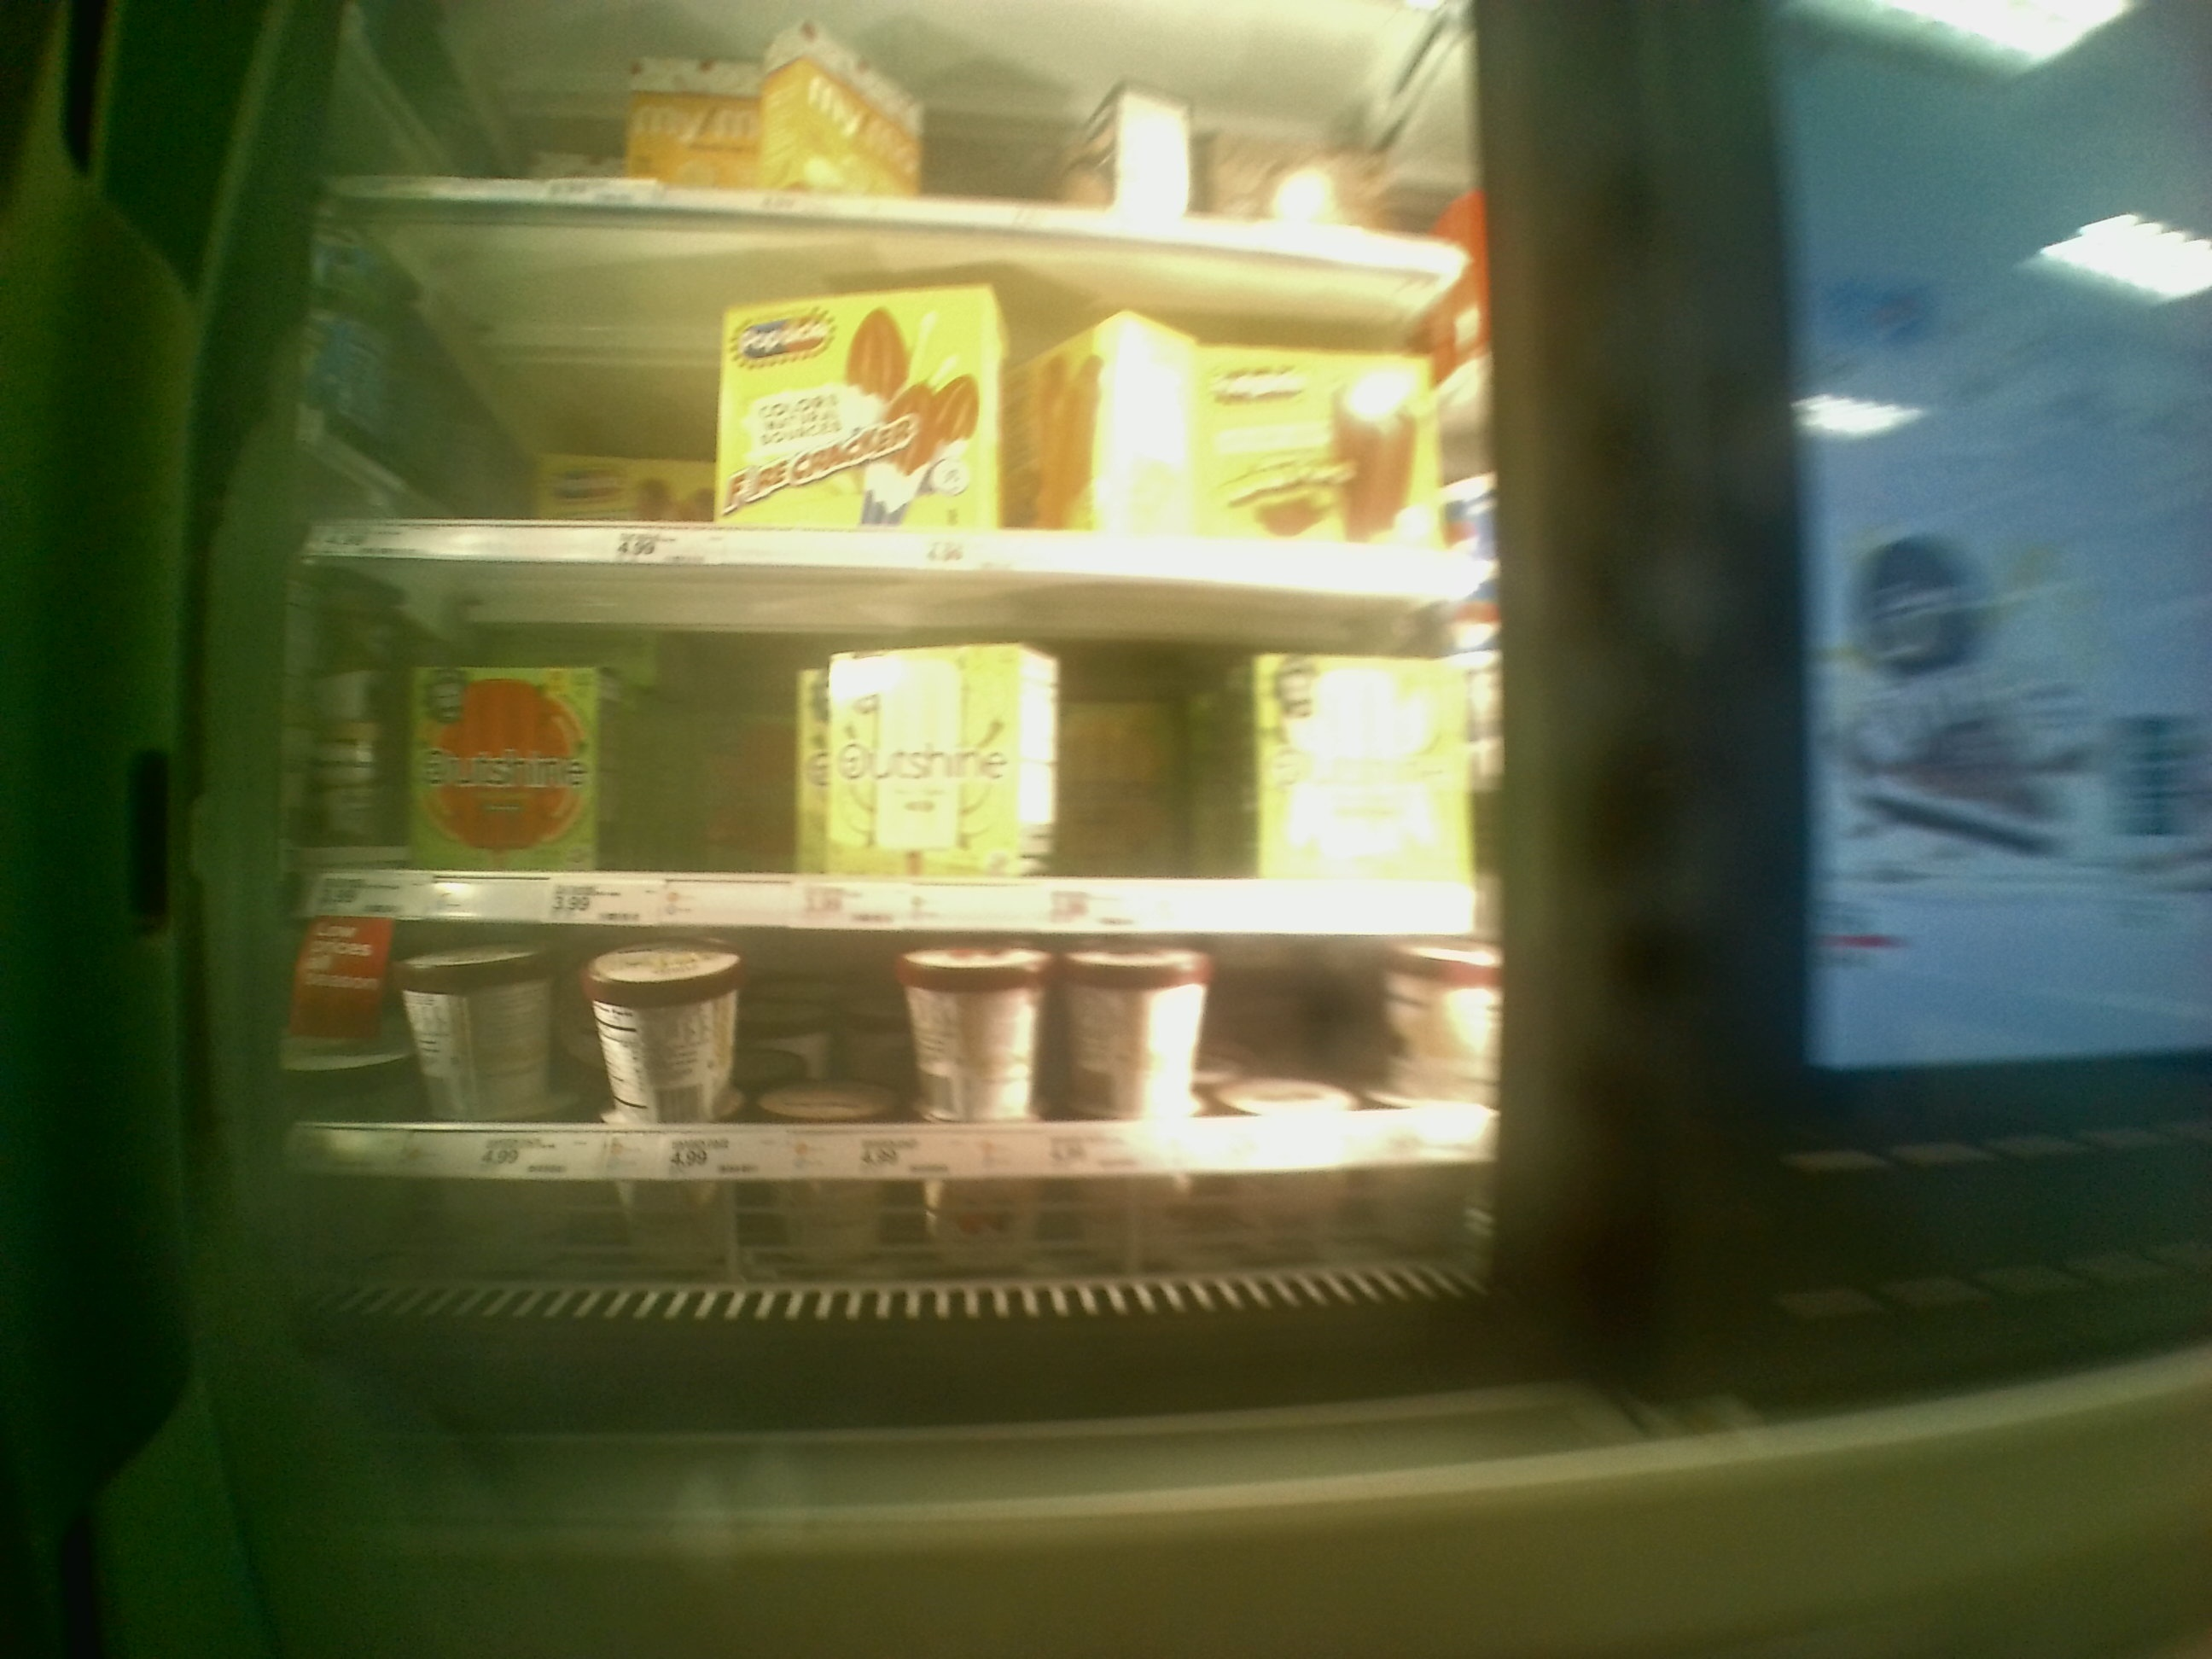shelf: (298, 202, 1489, 586), (289, 558, 1498, 934), (286, 915, 1498, 1236)
